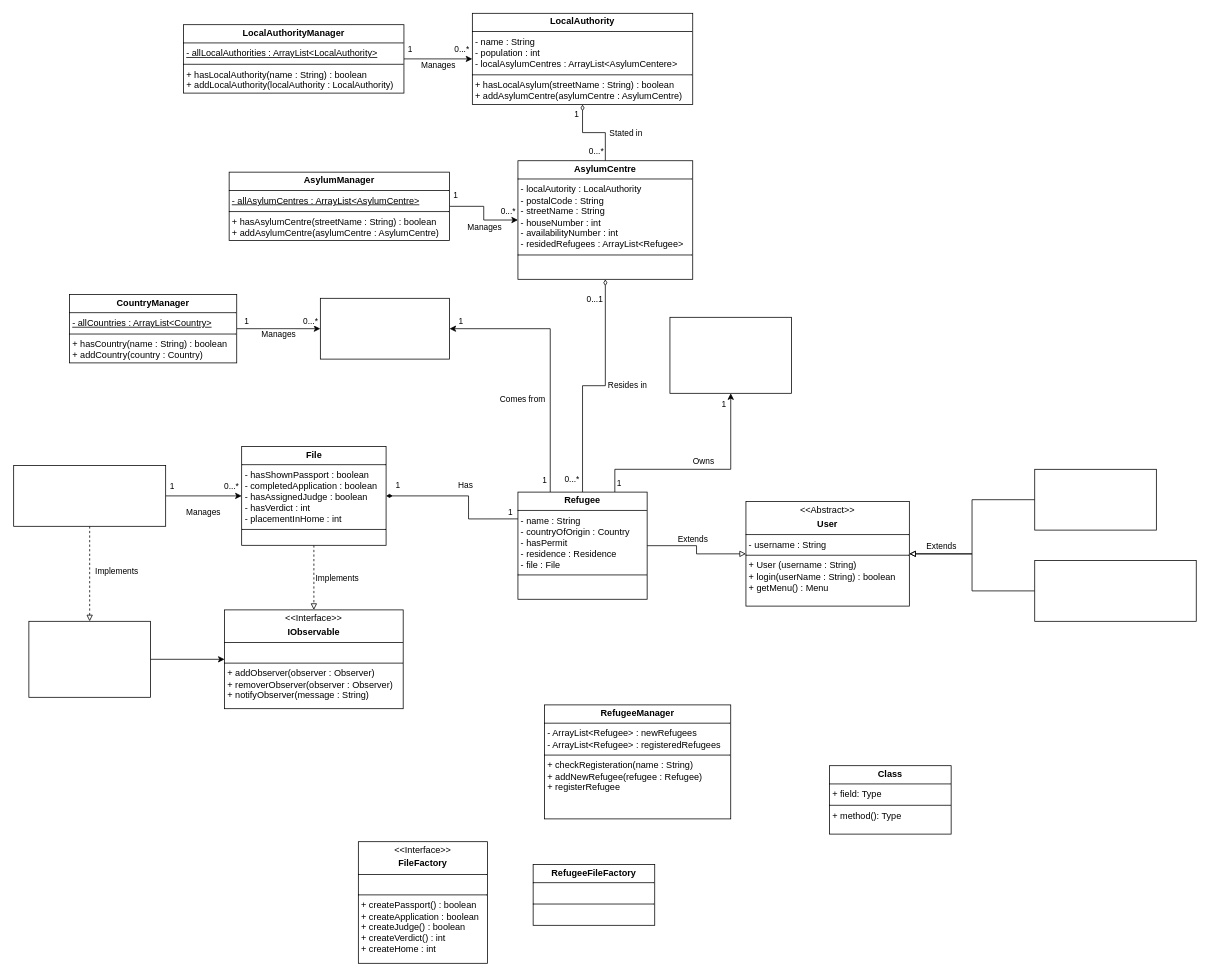
Some shapes in this 1209 by 977 pixel diagram are drawn without their labels. Here are the shapes that lost their labels. From the top down, the box of each, then its label:
(320, 298, 450, 359): Country - name : String - isSafe : Boolean
(669, 317, 792, 393): Residence - postalCode : String - streetName : String - houseNumber : String
(13, 465, 166, 526): FileManager - allFiles : ArrayList<File> + addFile(file : File)
(1034, 469, 1156, 530): Admin
(1034, 560, 1196, 621): COAEmployee
(28, 621, 150, 697): <<Interface>> IObserver + update(message : String)
